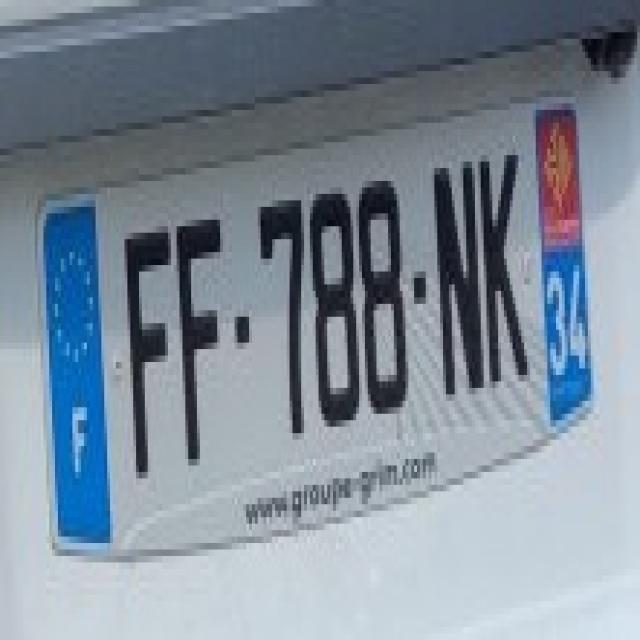EU: (37, 103, 606, 551)
France: (40, 206, 108, 546)
